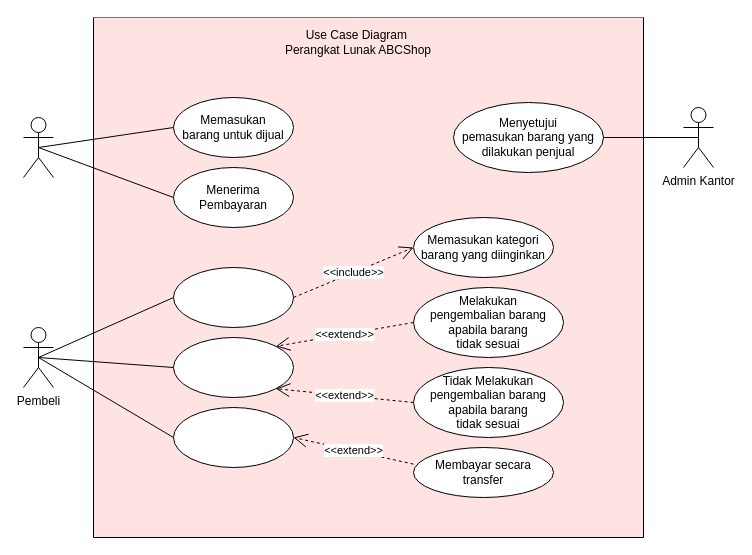
Some shapes in this 752 by 555 pixel diagram are drawn without their labels. The box of each missing label's shape, as (x1, y1, x2, y2) in pixels:
Melakukan Pembayaran: (172, 406, 294, 468)
Melakukan pembelian barang: (172, 336, 294, 398)
Memilih barang sesuai kategori barang: (172, 266, 294, 328)
Penjual: (22, 116, 54, 178)
